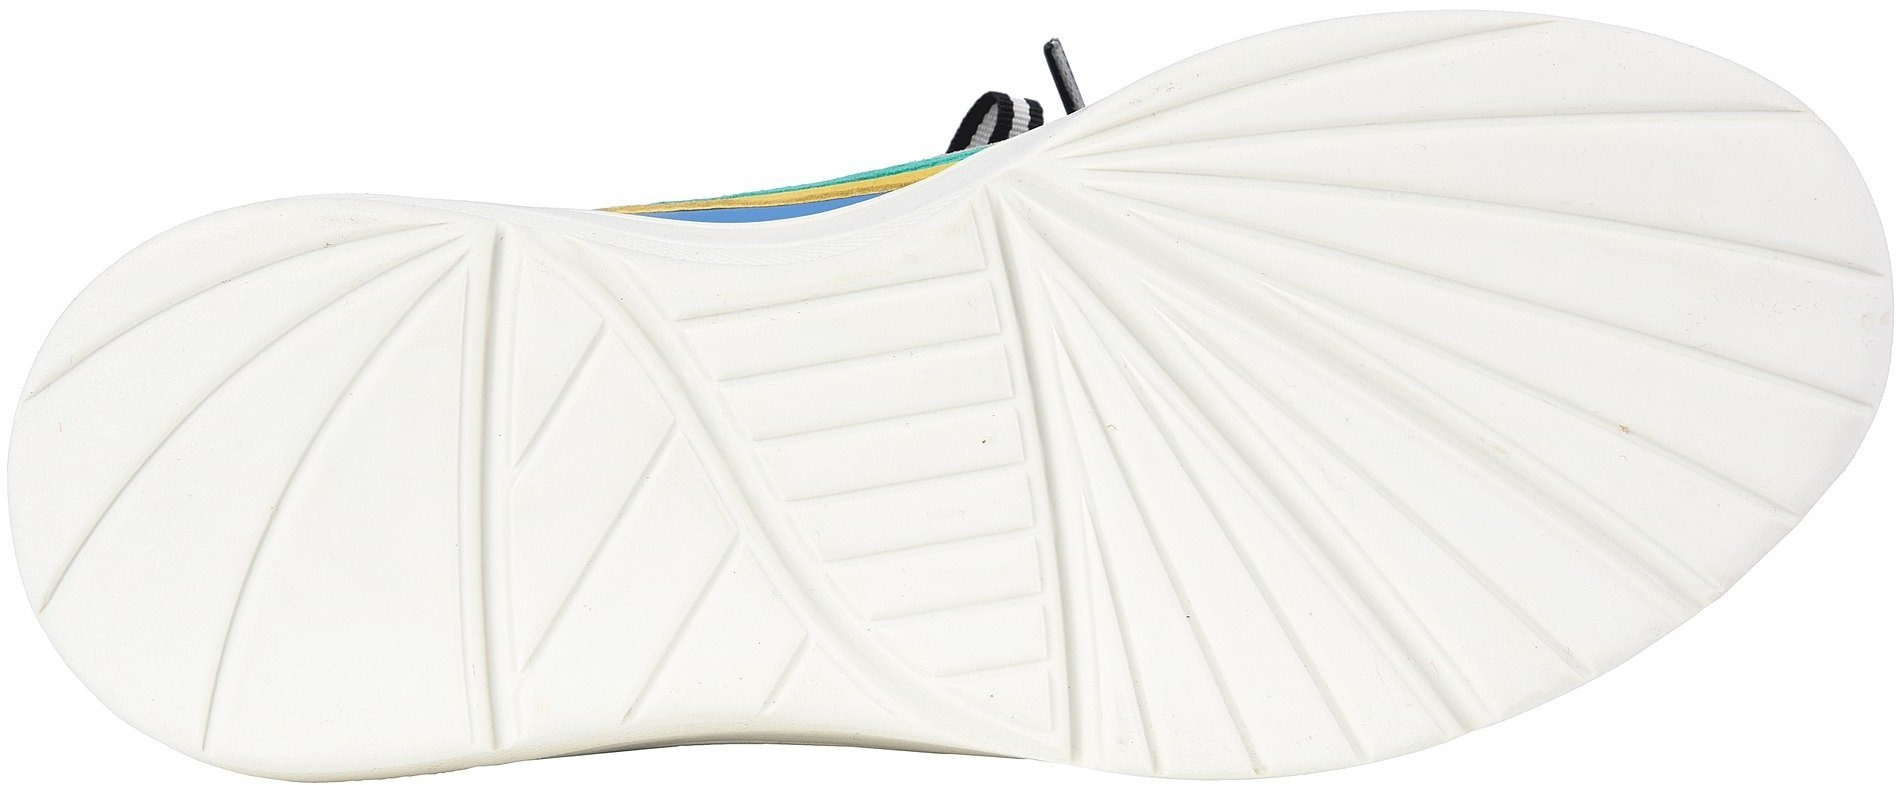line: (1451, 142, 1749, 434), (973, 178, 1253, 462), (339, 202, 615, 485), (73, 449, 345, 729), (794, 496, 1074, 763), (1143, 568, 1365, 779), (733, 270, 944, 475)
quad: (694, 262, 1001, 531), (339, 202, 615, 485), (794, 496, 1074, 763)
triangle: (992, 123, 1605, 779), (46, 220, 503, 762), (973, 178, 1253, 462), (339, 202, 615, 485), (794, 496, 1074, 763)
